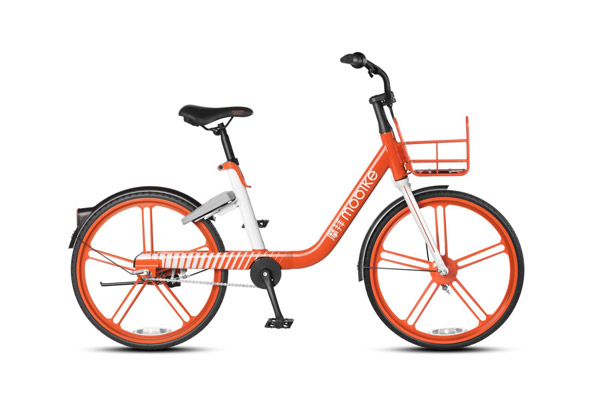MNV: (69, 52, 524, 350)
